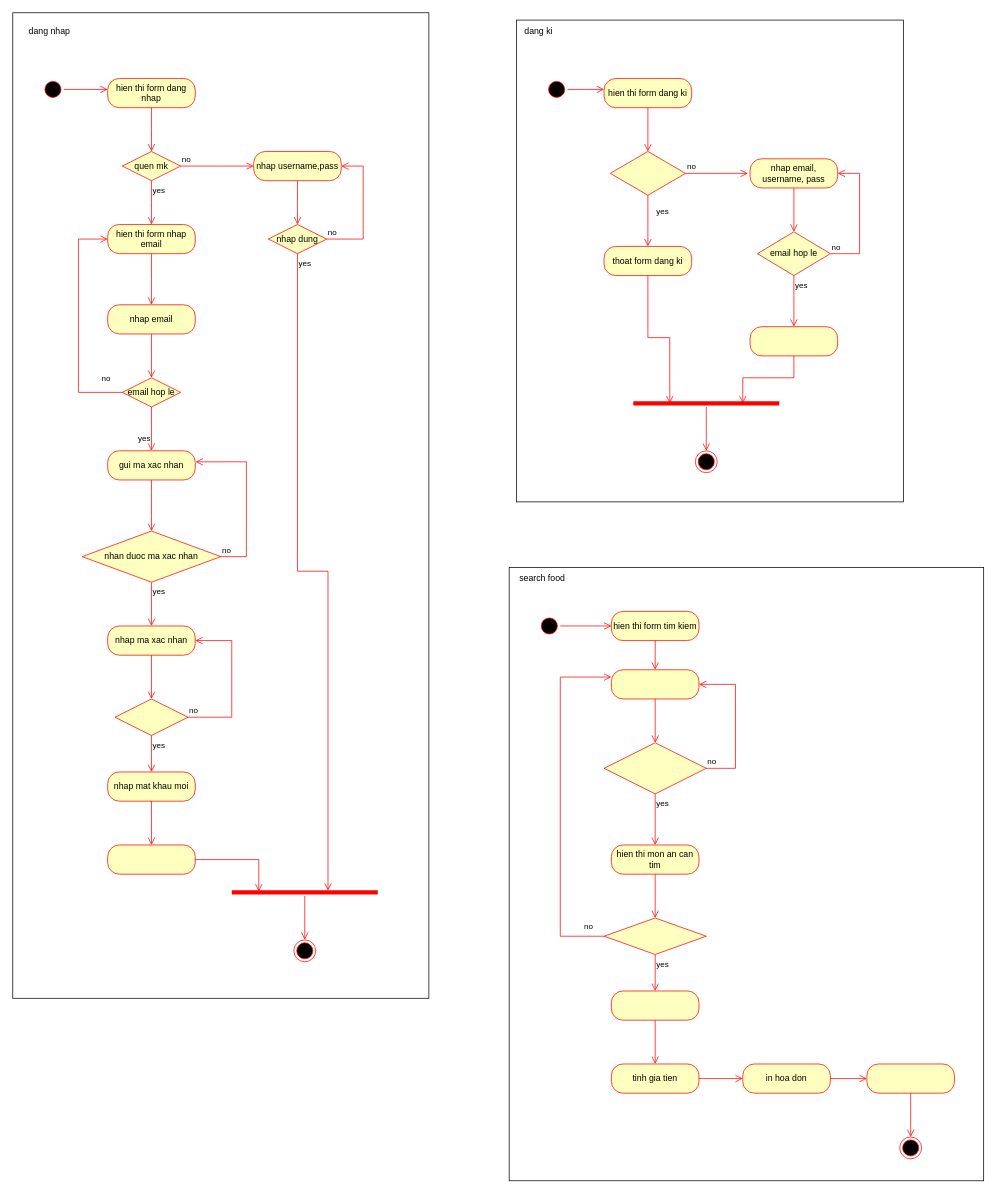
The diagram is 996 pixels wide and 1194 high, and some of its shapes have lost their labels. Here are the shapes that lost their labels. From the top down, the centre of each, then its label:
At pixel 647 173: "co tai khoan".
At pixel 793 341: "hien thi dang ki thanh cong".
At pixel 655 684: "nhap ten mon an".
At pixel 151 716: "ma dung".
At pixel 654 768: "ten dung".
At pixel 151 859: "thay doi pass thanh cong".
At pixel 654 935: "dung mon an".
At pixel 655 1005: "nhap so luong order".
At pixel 910 1078: "thanh toan".
